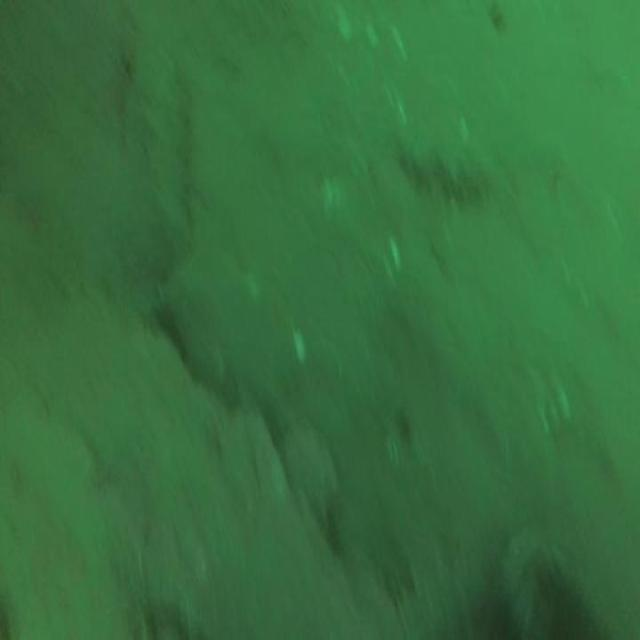holothurian: (141, 49, 199, 245), (391, 117, 497, 207), (396, 533, 490, 632)
